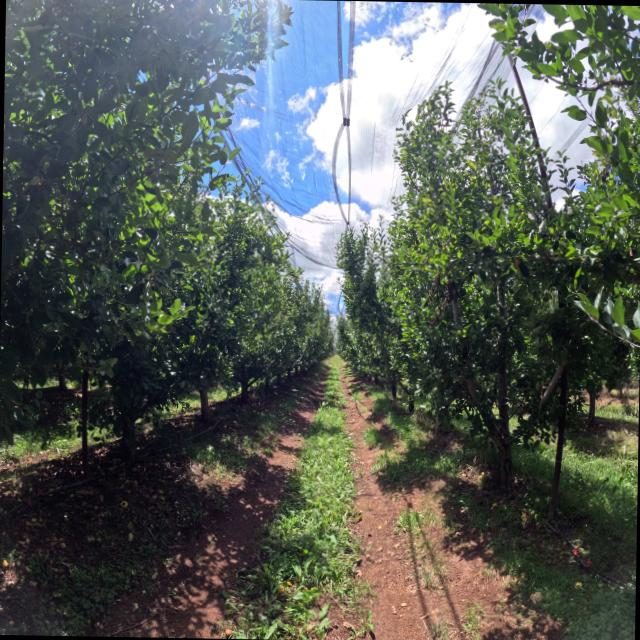-FireBlight-: (423, 267, 457, 329)
